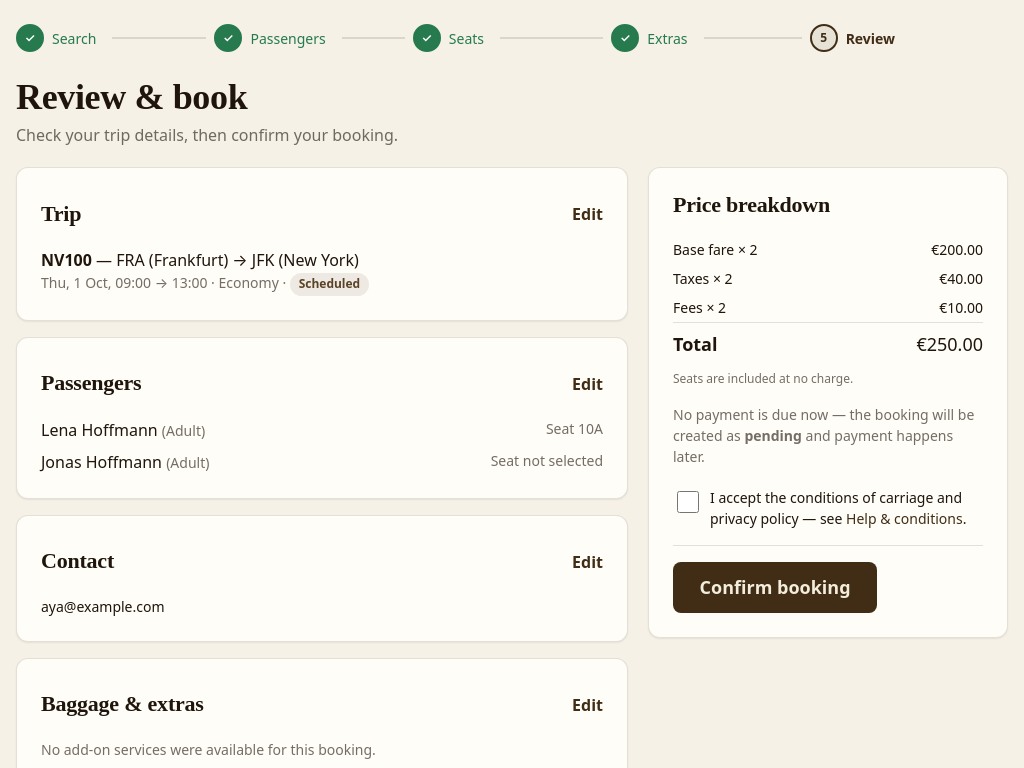
Test: ReviewPage › shows server validation messages on 400 without retrying blindly
Click the checkbox with id "consent" at (688,502), box [677,491,699,513]
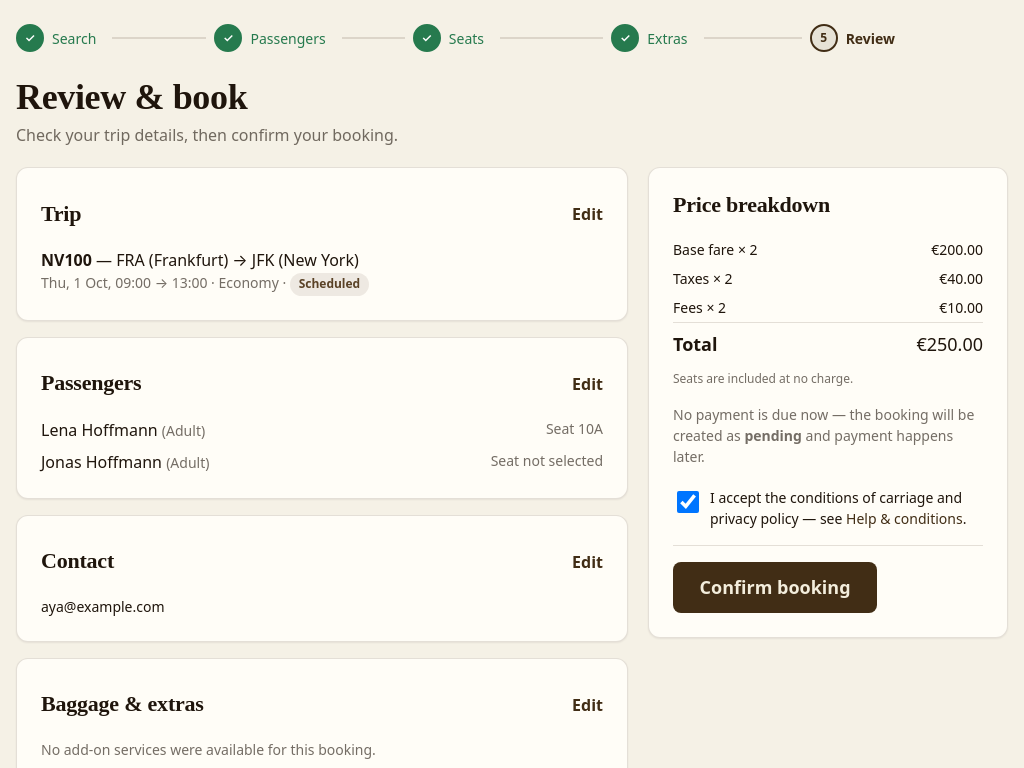
Click the button "Confirm booking" at (775,587), box [673,562,877,613]
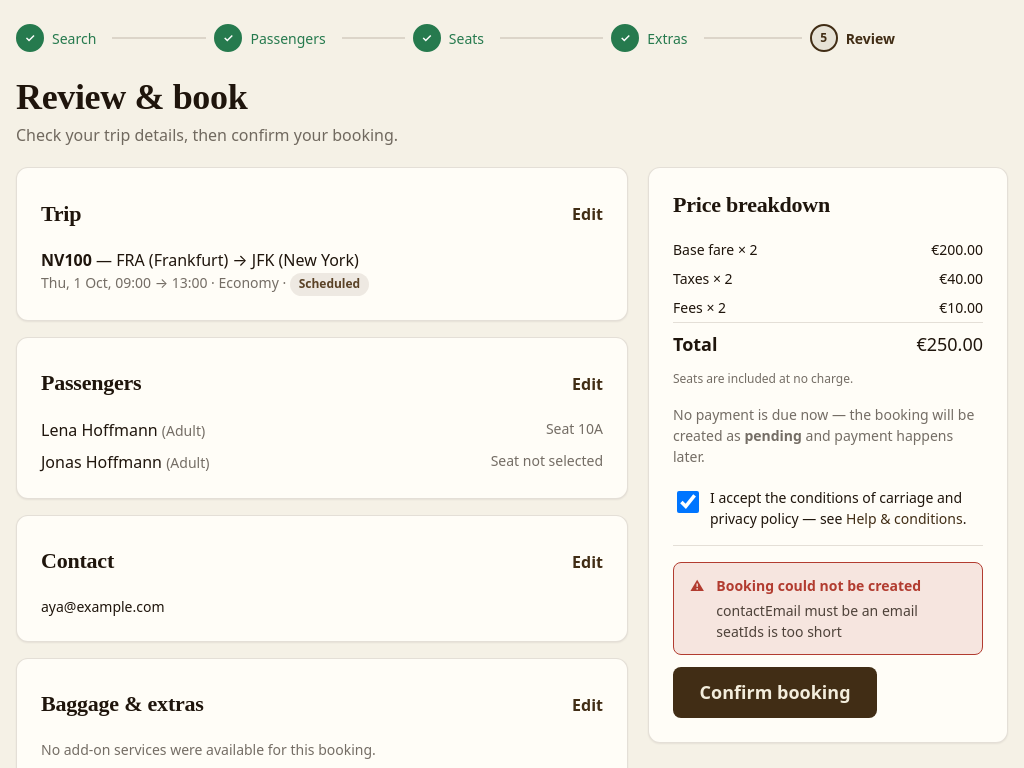
Now the text "contactEmail must be an email" is shown, box [716,601,918,641]
Now the text "seatIds is too short" is shown, box [716,601,918,641]
